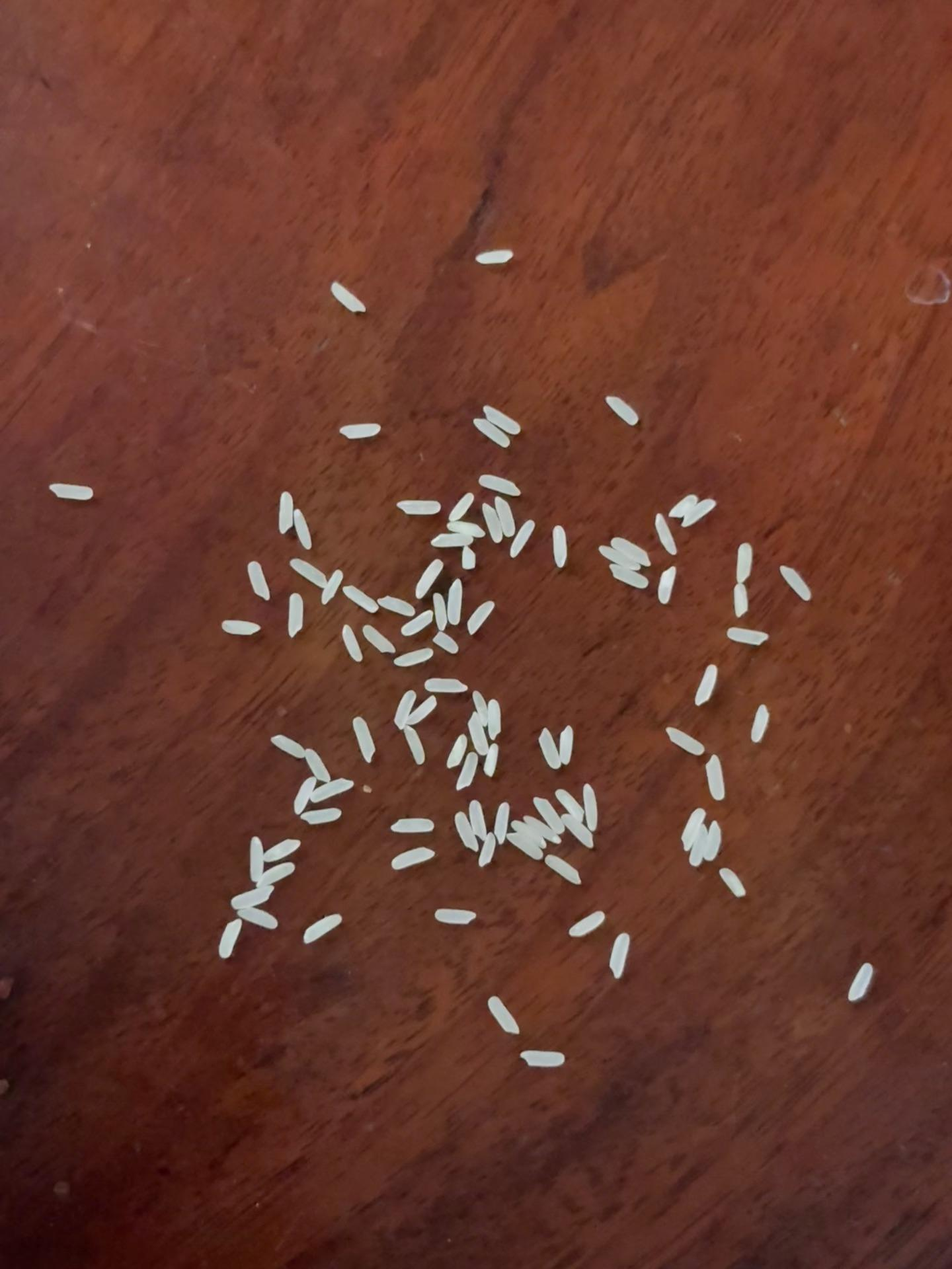Rice-th-y-nh: (487, 996, 520, 1035), (611, 535, 652, 566), (302, 913, 342, 944), (533, 797, 565, 835), (523, 814, 562, 845), (415, 558, 444, 599), (545, 854, 582, 886), (290, 558, 328, 589), (351, 717, 377, 762), (561, 813, 594, 848), (452, 812, 480, 853), (483, 405, 521, 435), (506, 831, 544, 861), (599, 544, 641, 571), (779, 565, 811, 600), (310, 777, 353, 803), (554, 788, 585, 824), (255, 862, 296, 889), (666, 727, 704, 756), (681, 498, 716, 529), (331, 283, 367, 313), (474, 418, 511, 447), (536, 728, 562, 769), (680, 808, 705, 850), (609, 564, 649, 590), (608, 933, 631, 978), (466, 713, 490, 756), (231, 886, 274, 910), (406, 695, 438, 727), (466, 600, 495, 635), (509, 519, 535, 558), (391, 847, 435, 870), (343, 585, 379, 613), (218, 918, 243, 958), (606, 396, 639, 426), (704, 755, 726, 800), (848, 963, 874, 1001), (362, 625, 396, 654), (694, 664, 718, 705), (237, 906, 278, 930), (292, 776, 317, 815), (688, 825, 711, 867), (274, 492, 297, 534), (569, 912, 606, 938), (581, 783, 601, 831), (303, 749, 331, 783), (456, 752, 480, 791), (247, 561, 271, 600), (263, 838, 300, 863), (479, 474, 521, 496), (491, 802, 513, 844), (393, 690, 416, 730), (654, 515, 677, 555), (445, 579, 465, 625), (655, 566, 679, 604), (403, 725, 426, 764), (494, 497, 517, 536), (401, 610, 434, 637), (514, 822, 547, 849), (727, 625, 769, 646), (285, 594, 306, 636), (481, 503, 503, 543), (467, 800, 489, 840), (430, 530, 474, 550), (703, 821, 724, 861), (50, 482, 93, 501), (341, 625, 363, 662), (719, 868, 746, 898), (320, 570, 343, 605), (271, 735, 306, 758), (377, 596, 415, 617), (521, 1050, 565, 1068), (248, 837, 265, 882), (293, 509, 312, 549), (485, 699, 504, 739), (551, 525, 569, 567), (448, 493, 474, 522), (446, 734, 468, 768), (397, 499, 441, 516), (668, 495, 699, 519), (557, 726, 576, 765), (301, 807, 342, 825), (435, 907, 476, 925), (477, 832, 498, 867), (470, 690, 491, 725), (424, 677, 467, 694), (391, 817, 434, 834), (395, 648, 433, 667), (447, 519, 485, 538), (735, 543, 753, 583), (751, 704, 769, 743), (431, 593, 449, 631), (482, 743, 501, 777), (341, 423, 380, 439), (732, 583, 749, 618), (433, 632, 459, 654), (222, 620, 260, 635), (476, 249, 513, 264), (460, 546, 476, 570)
